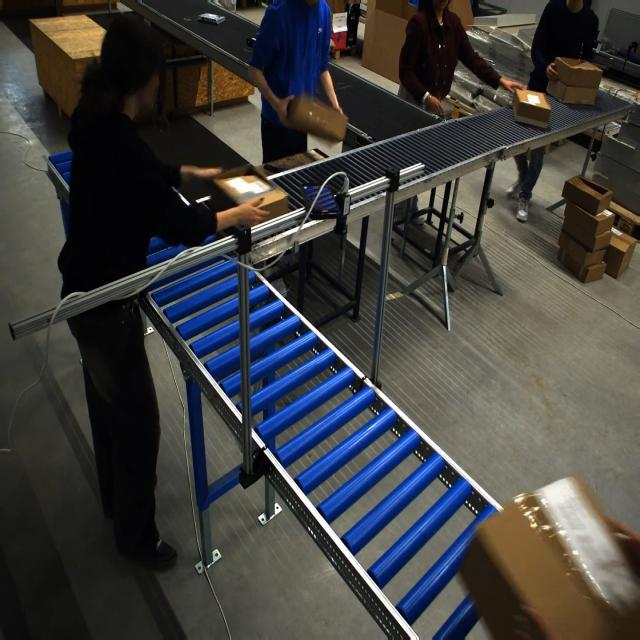box: (458, 474, 638, 638), (212, 164, 290, 225), (547, 57, 603, 106), (511, 88, 551, 128)
product: (197, 13, 226, 25), (246, 36, 256, 48)
